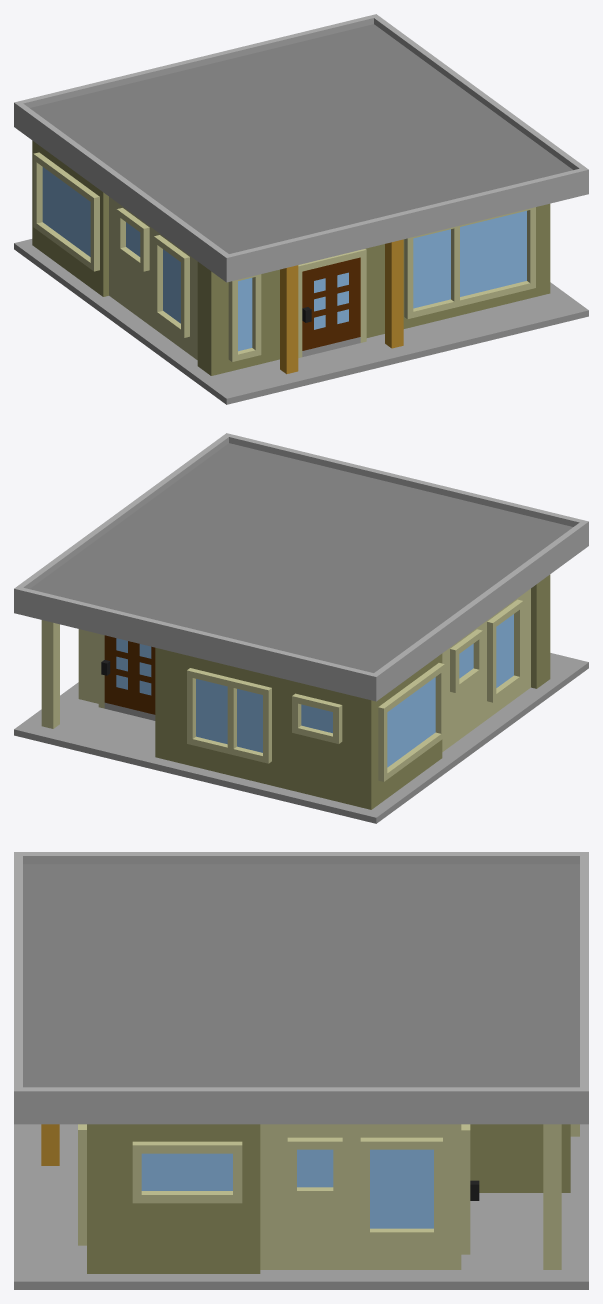
Rendered from obj_house1a.obj.
3 renders of one model, top to bottom at view 1: azimuth 30°, elevation 25°; view 2: azimuth 150°, elevation 25°; view 3: azimuth 270°, elevation 25°, orthographic. The views are drawn at different scales.
Bounding box in the file's own units: 6.2 × 2.4 × 6.3.
Materials: 1 (1 with a texture image).
